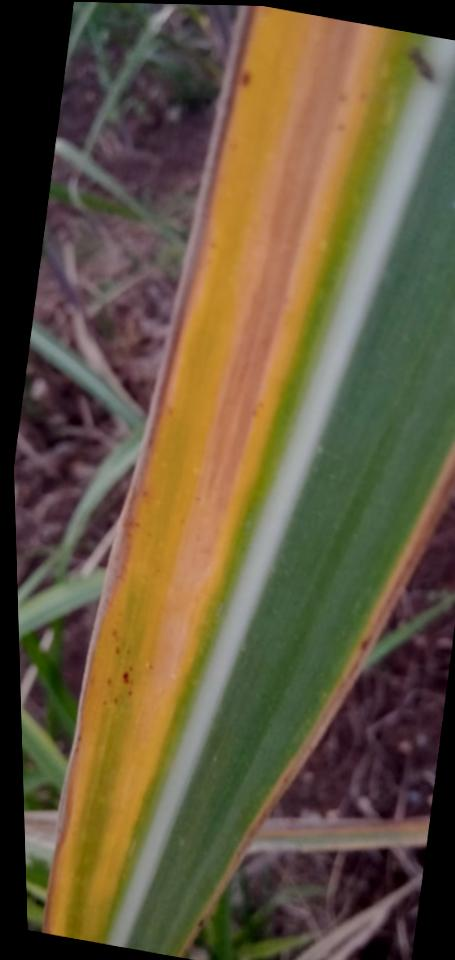Rust: (404, 48, 436, 84), (118, 664, 133, 697), (237, 69, 254, 90), (358, 635, 374, 654), (165, 401, 178, 416), (145, 660, 158, 672), (109, 695, 122, 706), (358, 89, 370, 100), (334, 121, 348, 130), (123, 645, 133, 655)
Yellow: (42, 6, 415, 942), (173, 436, 455, 957)
